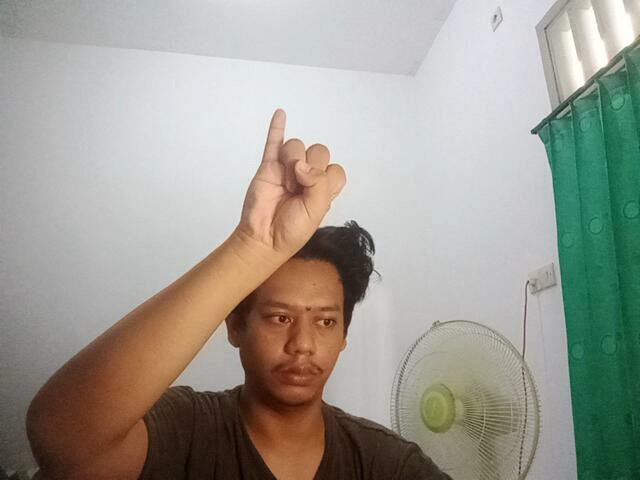I: (236, 96, 353, 258)
